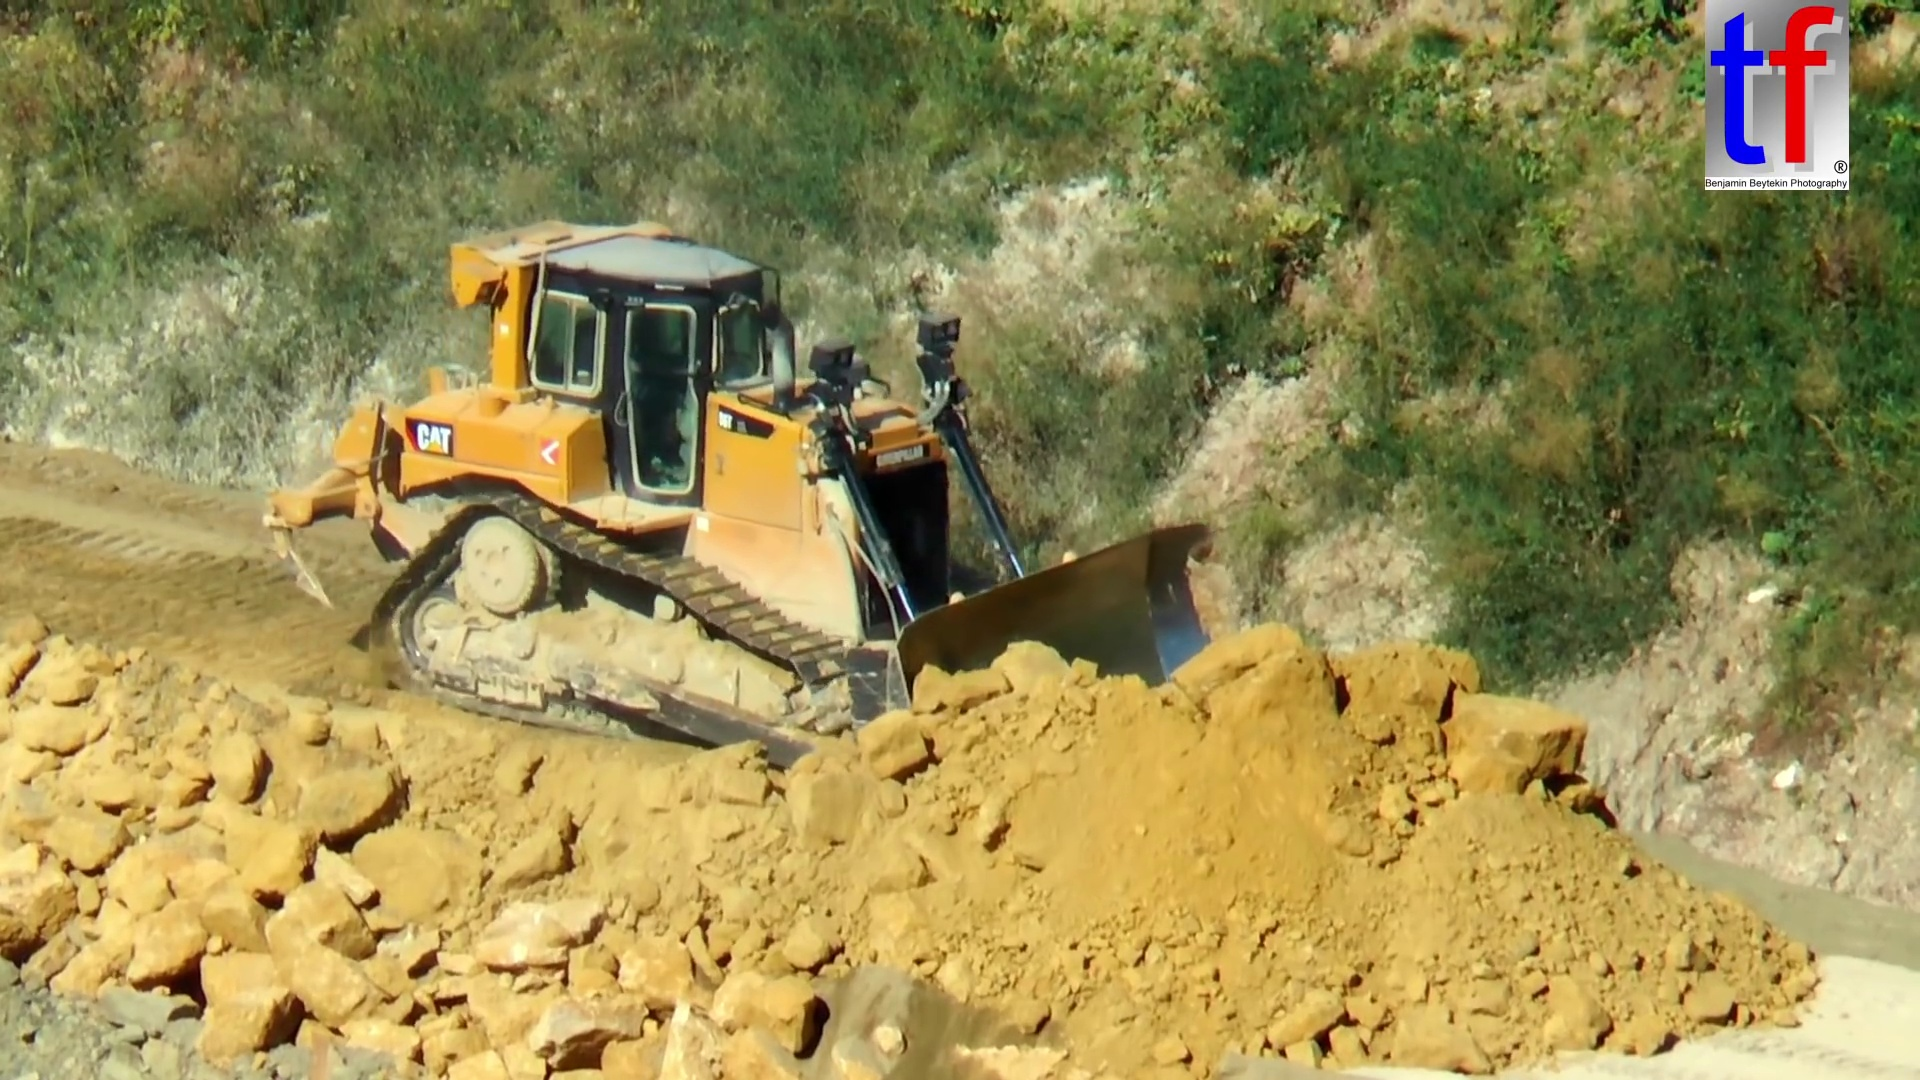bulldozer: (261, 222, 1244, 808)
